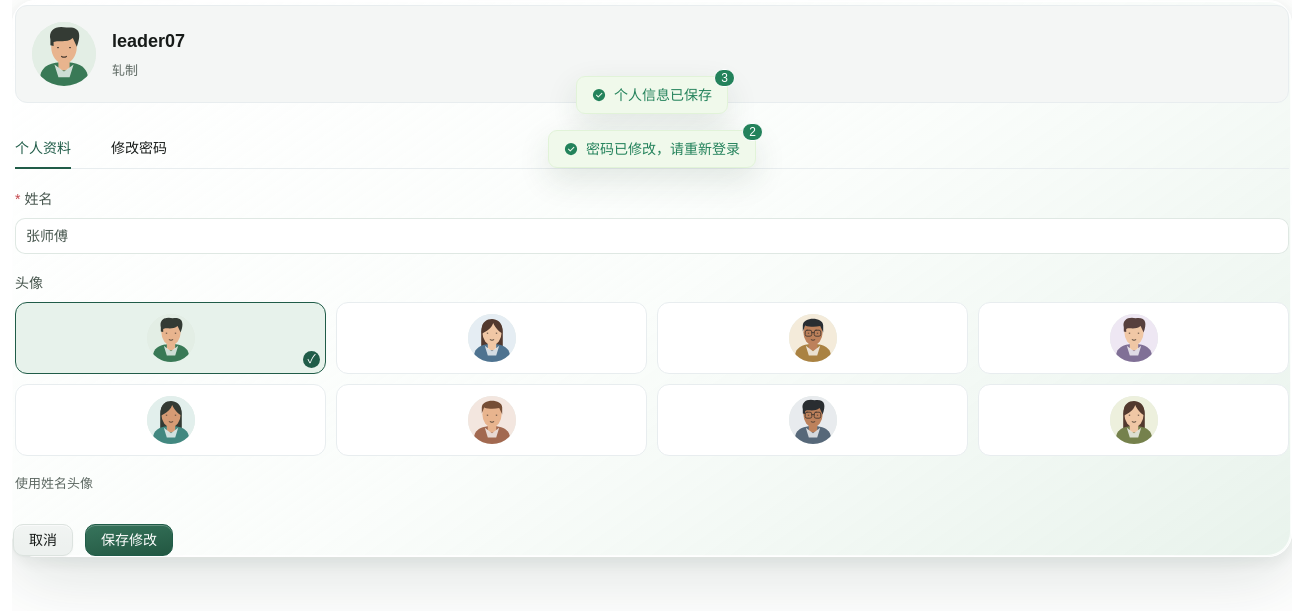
Test: own password changes › rejects invalid fields before sending a request ()
Click the tab with id "tab-password" at coordinates (139, 148), box [111,140,167,156]
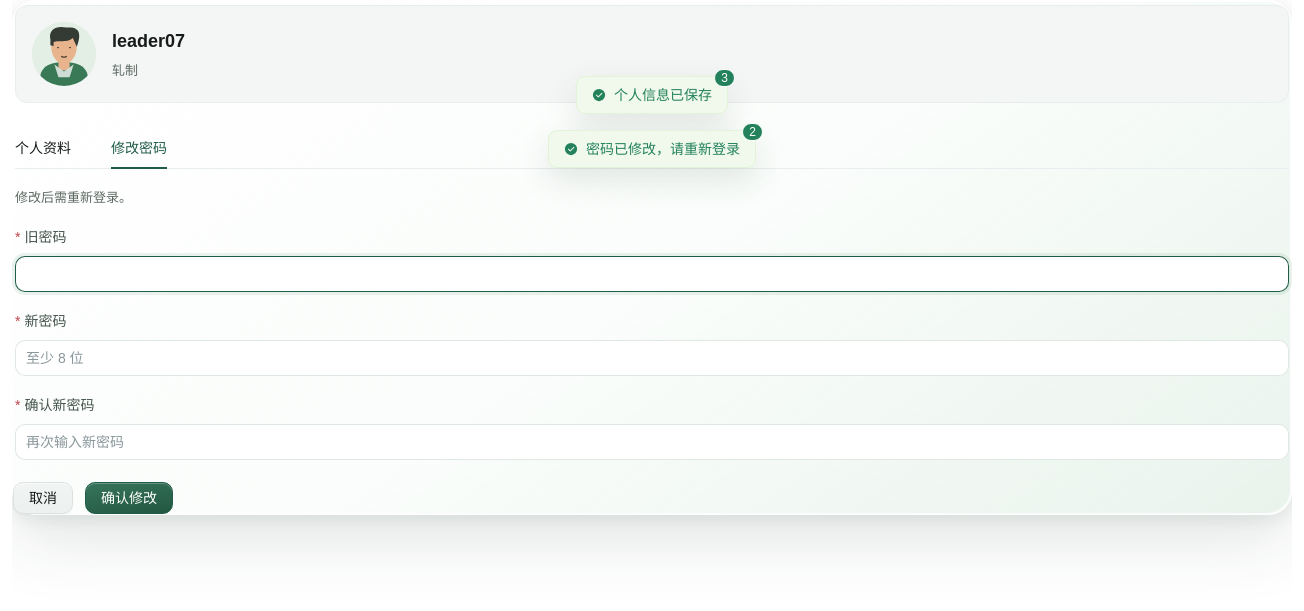
Type "Changed123!" into the password field named "新密码" at coordinates (652, 358), box [26,340,1278,374]
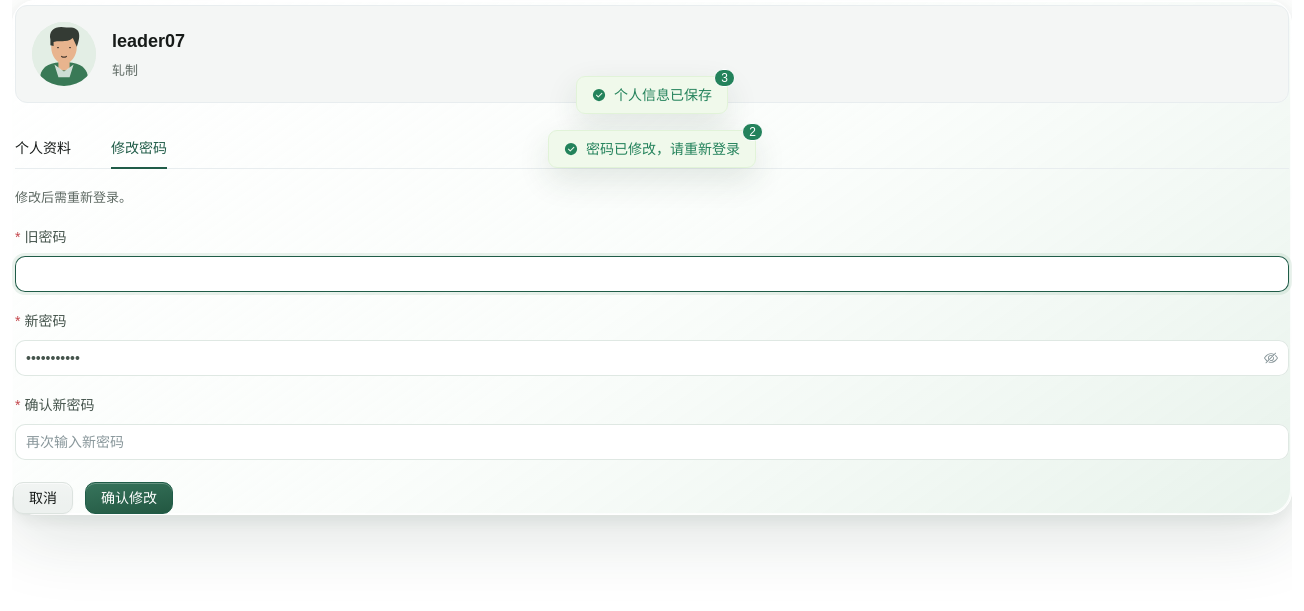
Type "Changed123!" into the password field named "确认新密码" at coordinates (652, 442), box [26,424,1278,458]
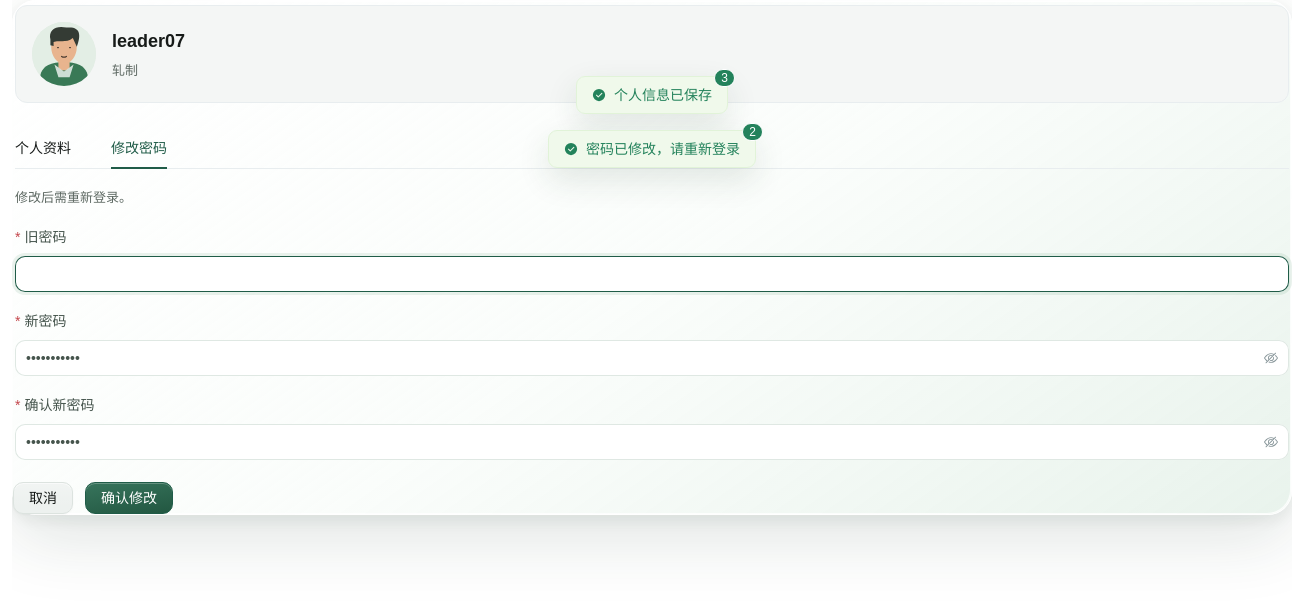
Click the button "确认修改" at coordinates (129, 498), box [85,482,173,514]
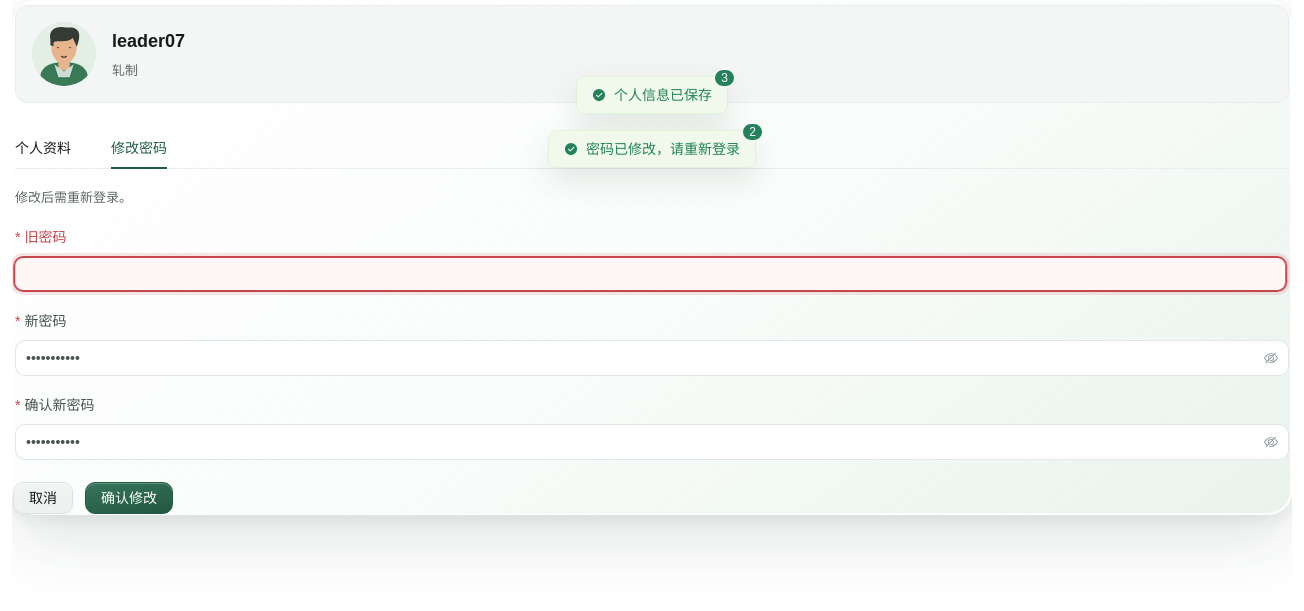
Check: the element with class "is-error" is shown, box [15,226,1289,292]
